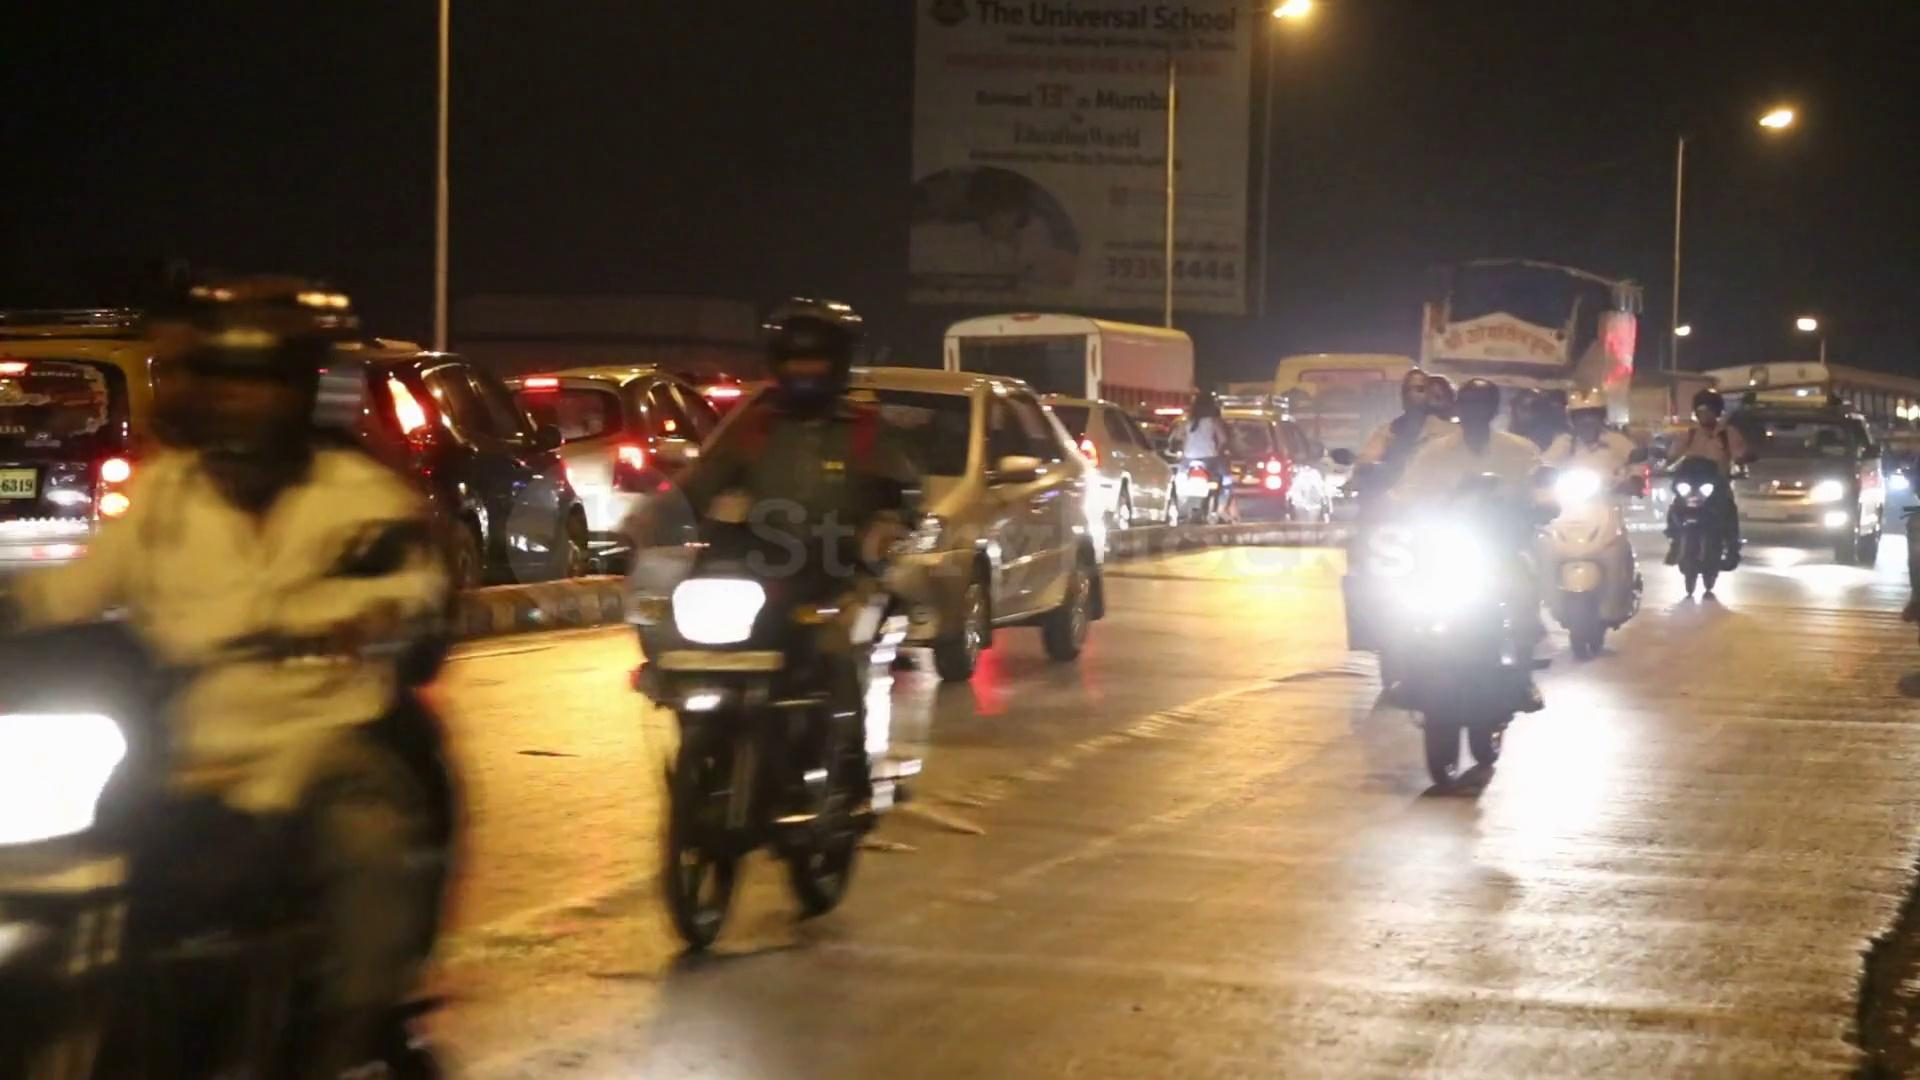rider: (4, 269, 463, 1076), (617, 292, 928, 935), (1421, 379, 1537, 799), (1350, 360, 1441, 689), (1550, 383, 1646, 657), (1667, 383, 1747, 600), (1171, 379, 1236, 537)
with_helmate: (159, 291, 324, 489), (746, 300, 863, 401), (1450, 384, 1497, 433), (1566, 391, 1616, 437), (1684, 387, 1729, 429)
without_helmate: (1391, 363, 1434, 411)
